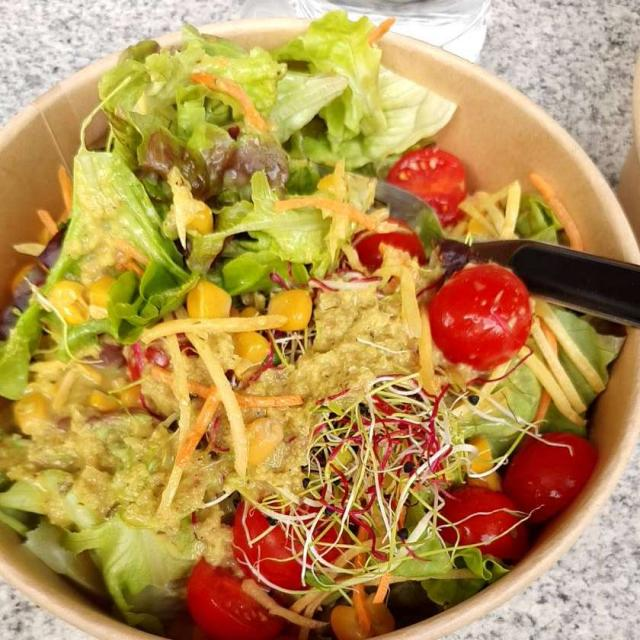carrot-raw: (153, 301, 582, 467)
oil-vinegar-salad-dressing: (42, 303, 412, 543)
salad-leaf-salad-green: (9, 8, 454, 599)
shoots: (244, 384, 476, 586)
sweet-corn-canned: (185, 288, 319, 362)
tomato-raw: (177, 144, 601, 632)
